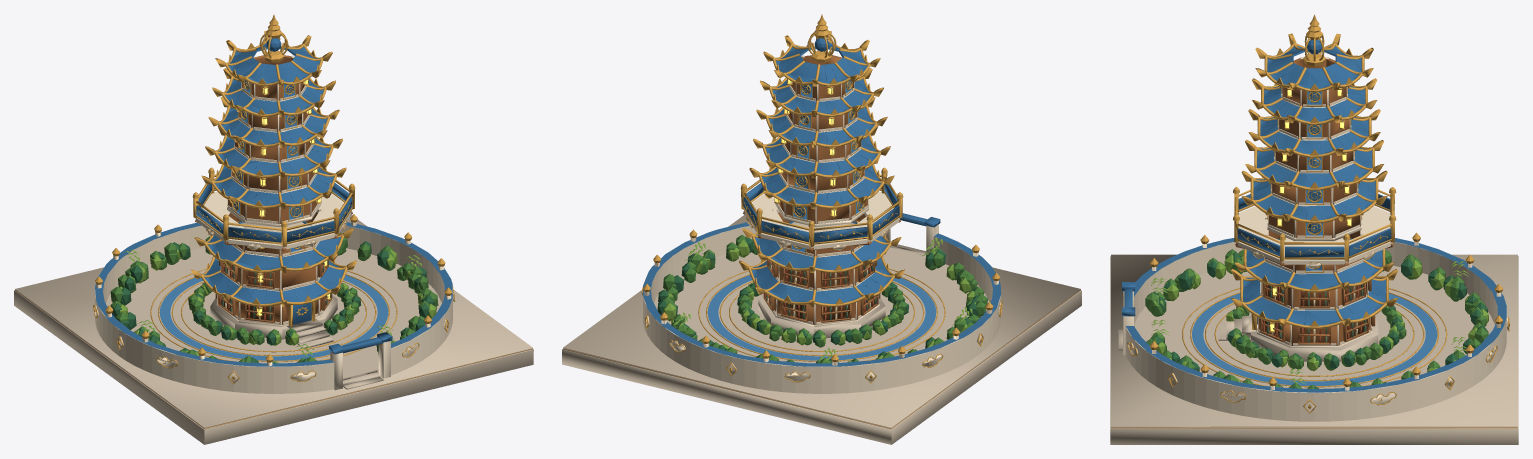
File: city-5-lod1-2187036d1221.glb
3 views of the same model, side by side, from view 1: azimuth 30°, elevation 25°; view 2: azimuth 150°, elevation 25°; view 3: azimuth 270°, elevation 25° (orthographic). The views are drawn at different scales.
Parts seen in each view (by area): view 1: SM_CT5_V4_Batch_0.002, SM_CT5_V4_Batch_77.002, SM_CT5_V4_Batch_73.002, SM_CT5_V4_Batch_78.002, SM_CT5_V4_Batch_68.002, SM_CT5_V4_Batch_82.002, SM_CT5_V4_Batch_5.002, SM_CT5_V4_Batch_81.002, SM_CT5_V4_Batch_83.002, SM_CT5_V4_Batch_1.002, SM_CT5_V4_Batch_9.002; view 2: SM_CT5_V4_Batch_0.002, SM_CT5_V4_Batch_73.002, SM_CT5_V4_Batch_77.002, SM_CT5_V4_Batch_78.002, SM_CT5_V4_Batch_68.002, SM_CT5_V4_Batch_82.002, SM_CT5_V4_Batch_5.002, SM_CT5_V4_Batch_83.002, SM_CT5_V4_Batch_81.002, SM_CT5_V4_Batch_9.002, SM_CT5_V4_Batch_1.002; view 3: SM_CT5_V4_Batch_0.002, SM_CT5_V4_Batch_73.002, SM_CT5_V4_Batch_77.002, SM_CT5_V4_Batch_78.002, SM_CT5_V4_Batch_68.002, SM_CT5_V4_Batch_82.002, SM_CT5_V4_Batch_5.002, SM_CT5_V4_Batch_81.002, SM_CT5_V4_Batch_83.002, SM_CT5_V4_Batch_9.002, SM_CT5_V4_Batch_1.002, SM_CT5_V4_Batch_12.002.
Part boxes in pixels (x1,y1,x2,y2): SM_CT5_V4_Batch_0.002: (14,214,533,444); SM_CT5_V4_Batch_77.002: (95,38,452,366); SM_CT5_V4_Batch_73.002: (94,55,454,393); SM_CT5_V4_Batch_78.002: (93,14,455,384); SM_CT5_V4_Batch_68.002: (195,55,352,324); SM_CT5_V4_Batch_82.002: (110,233,438,363); SM_CT5_V4_Batch_5.002: (159,47,388,360); SM_CT5_V4_Batch_81.002: (111,233,435,363); SM_CT5_V4_Batch_83.002: (119,243,436,363); SM_CT5_V4_Batch_1.002: (15,290,532,429); SM_CT5_V4_Batch_9.002: (221,263,321,320); SM_CT5_V4_Batch_0.002: (562,214,1081,444); SM_CT5_V4_Batch_73.002: (642,55,1001,393); SM_CT5_V4_Batch_77.002: (642,38,1001,366); SM_CT5_V4_Batch_78.002: (641,14,1002,382); SM_CT5_V4_Batch_68.002: (743,55,900,324); SM_CT5_V4_Batch_82.002: (661,234,987,363); SM_CT5_V4_Batch_5.002: (707,48,936,360); SM_CT5_V4_Batch_83.002: (663,238,975,362); SM_CT5_V4_Batch_81.002: (657,237,978,363); SM_CT5_V4_Batch_9.002: (774,263,874,320); SM_CT5_V4_Batch_1.002: (563,290,1080,429); SM_CT5_V4_Batch_0.002: (1110,254,1518,444); SM_CT5_V4_Batch_73.002: (1123,57,1507,421); SM_CT5_V4_Batch_77.002: (1122,40,1506,392); SM_CT5_V4_Batch_78.002: (1127,14,1509,413); SM_CT5_V4_Batch_68.002: (1235,58,1393,345); SM_CT5_V4_Batch_82.002: (1145,249,1488,388); SM_CT5_V4_Batch_5.002: (1192,51,1437,385); SM_CT5_V4_Batch_81.002: (1152,252,1488,388); SM_CT5_V4_Batch_83.002: (1147,254,1488,387); SM_CT5_V4_Batch_9.002: (1262,282,1371,342); SM_CT5_V4_Batch_1.002: (1111,427,1517,428); SM_CT5_V4_Batch_12.002: (1267,284,1366,342).
Bounding box in the file's own units: 10 × 9.31 × 10.
15 materials, 4 textured.
